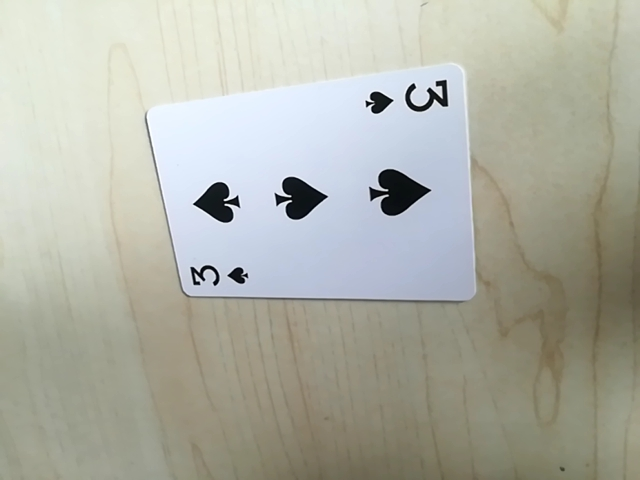ht 3: (361, 75, 457, 121), (182, 261, 253, 293)
